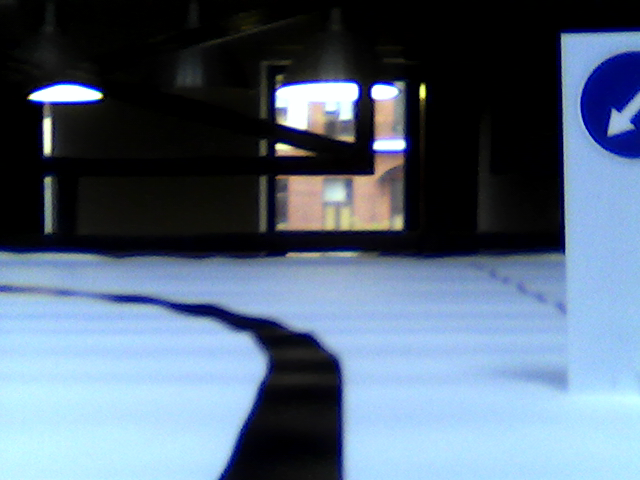prep: (578, 45, 640, 161)
